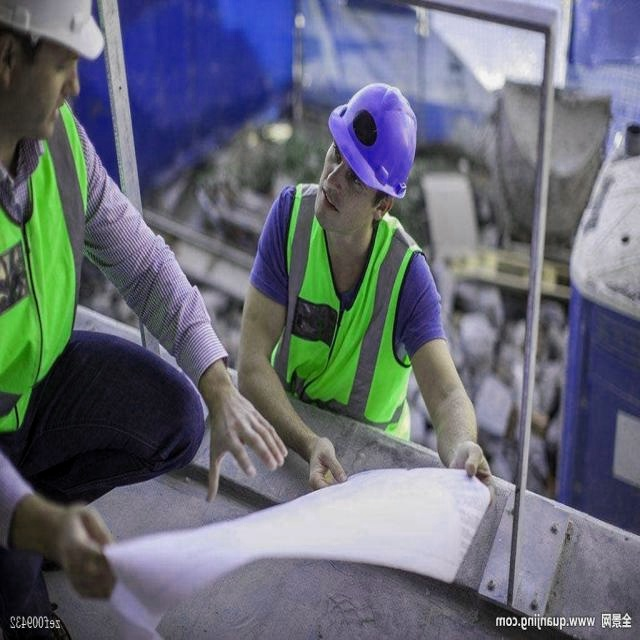Con_Chaleco: (262, 197, 418, 416)
